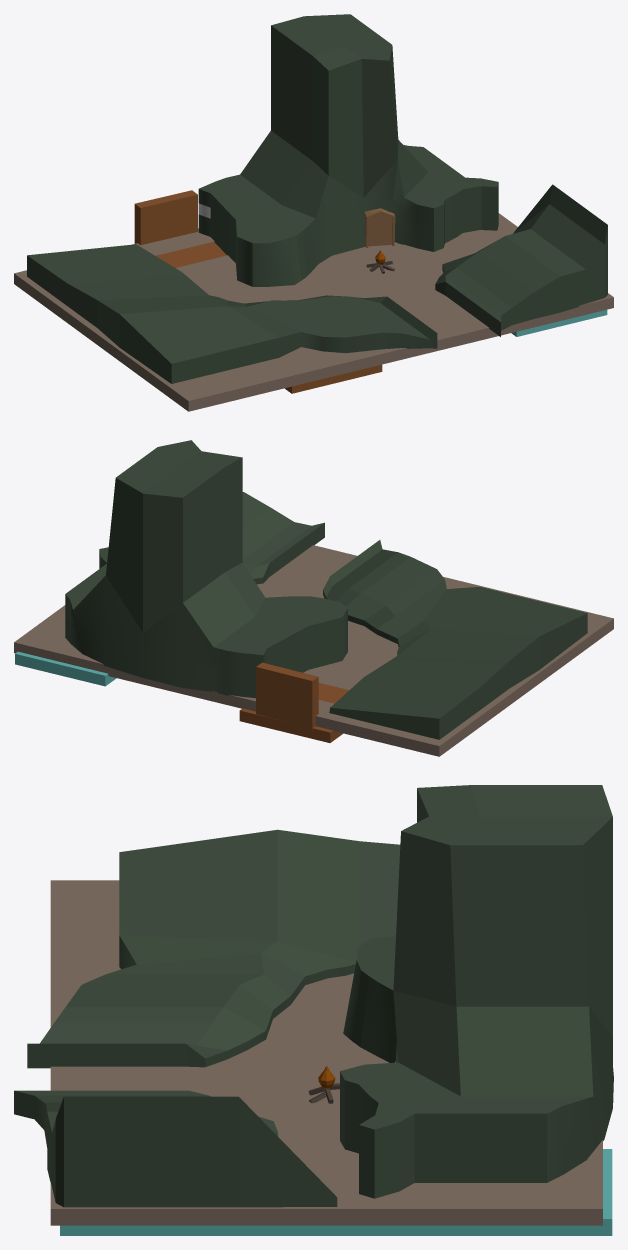
The model's file is Level_2_Hub.fbx.
3 views of the same model, one above another, from view 1: azimuth 30°, elevation 25°; view 2: azimuth 150°, elevation 25°; view 3: azimuth 270°, elevation 25° (orthographic). The views are drawn at different scales.
Visible parts, largest first — view 1: polySurface1, pPlane1, pCube4, pasted__pPlane2, pCube1, pPlane2; view 2: polySurface1, pPlane1, pCube4, pasted__pPlane2, pPlane2; view 3: polySurface1, pPlane1, pPlane2.
Boxes of the visible parts, x1,y1,x2,y2 form: polySurface1: (27,14,607,383); pPlane1: (14,213,613,411); pCube4: (134,190,197,245); pasted__pPlane2: (156,241,382,393); pCube1: (364,208,395,247); pPlane2: (511,309,607,336); polySurface1: (65,440,587,739); pPlane1: (14,545,613,756); pCube4: (256,662,318,731); pasted__pPlane2: (239,683,349,742); pPlane2: (15,651,116,686); polySurface1: (14,785,613,1207); pPlane1: (50,880,602,1225); pPlane2: (60,1149,612,1235).
Bounding box in the file's own units: 20.87 × 9.68 × 16.11.
